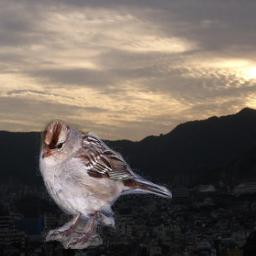Sparrow: (35, 119, 172, 249)
